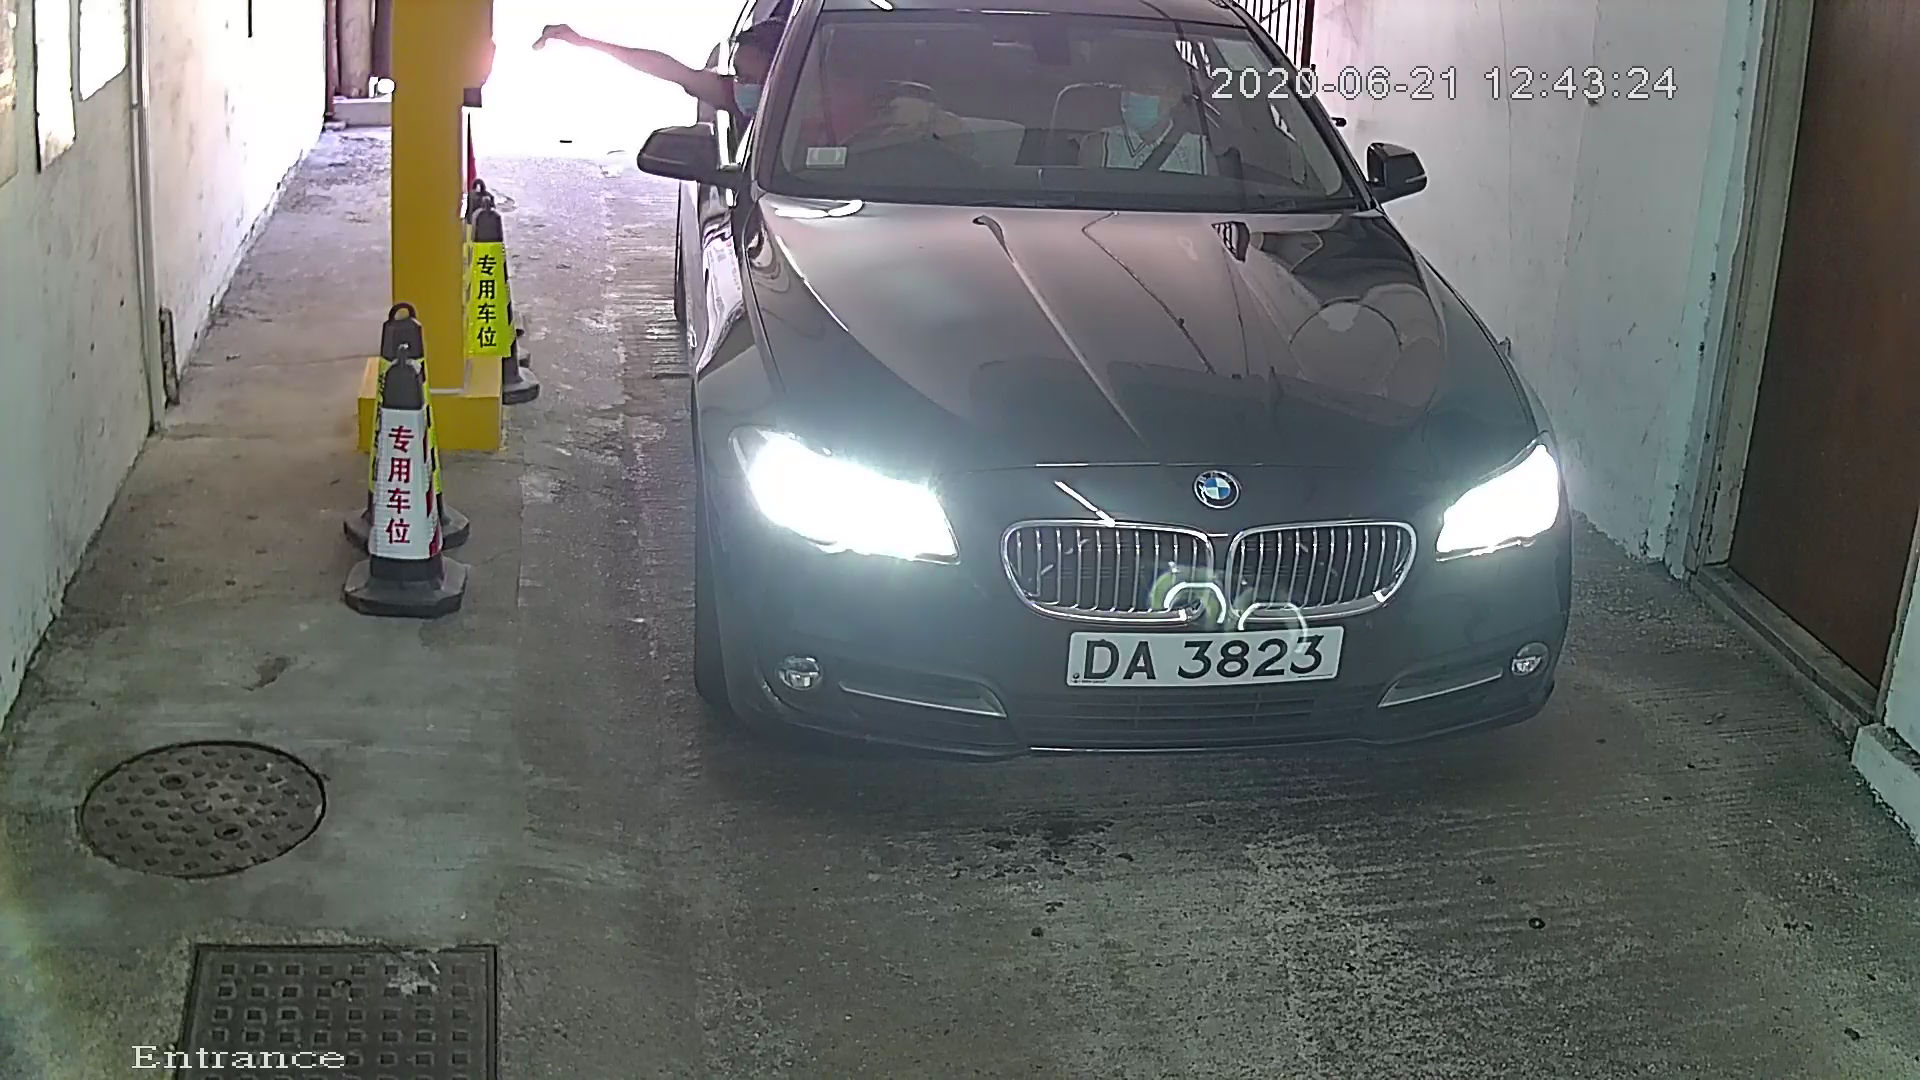privatecar: (629, 1, 1635, 851)
